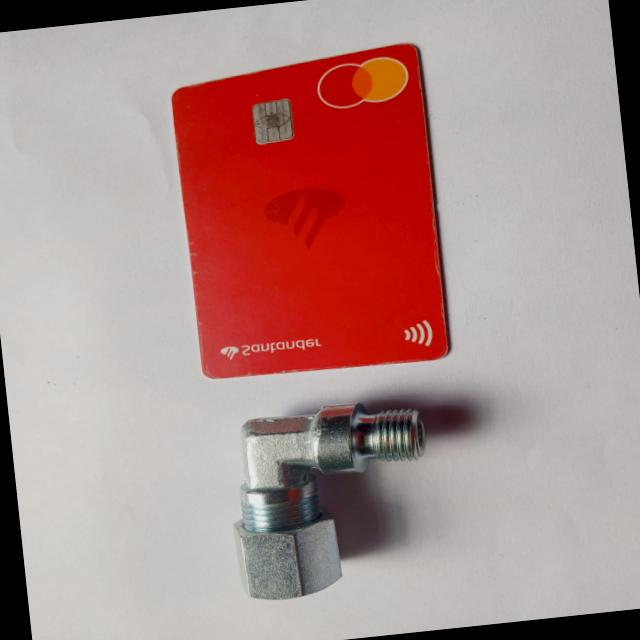cartao: (170, 42, 452, 384)
rosca_externa: (220, 394, 439, 604)
